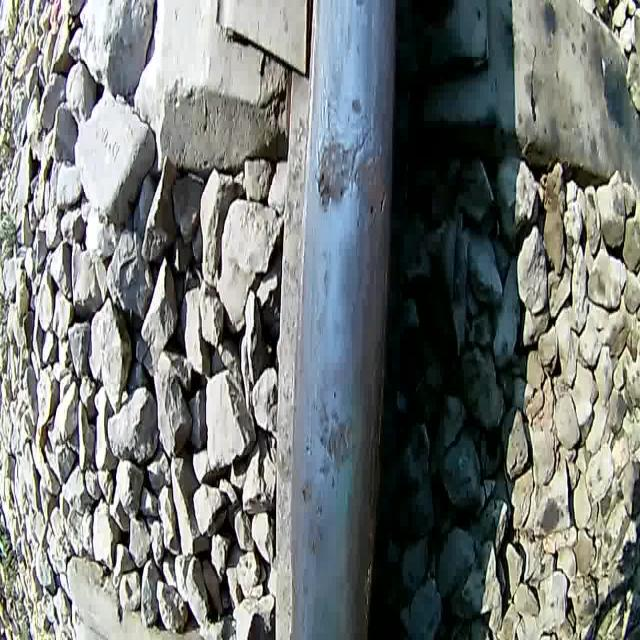Cracks: (348, 118, 374, 189), (323, 89, 334, 141)
Spallings: (313, 163, 346, 214)
Squats: (313, 86, 392, 239), (297, 382, 360, 562)
